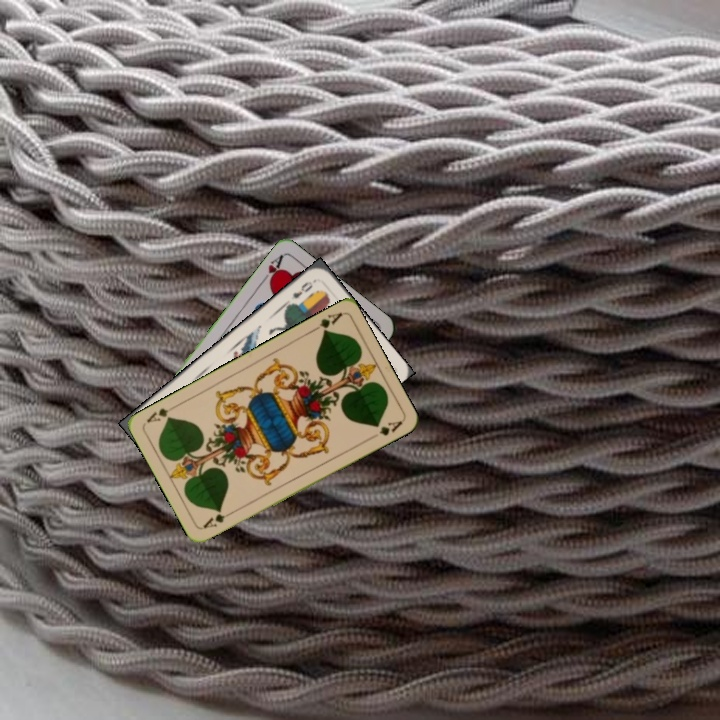EO: (285, 276, 318, 308)
GA: (307, 308, 344, 337), (199, 506, 237, 531)
HA: (256, 251, 286, 288)
